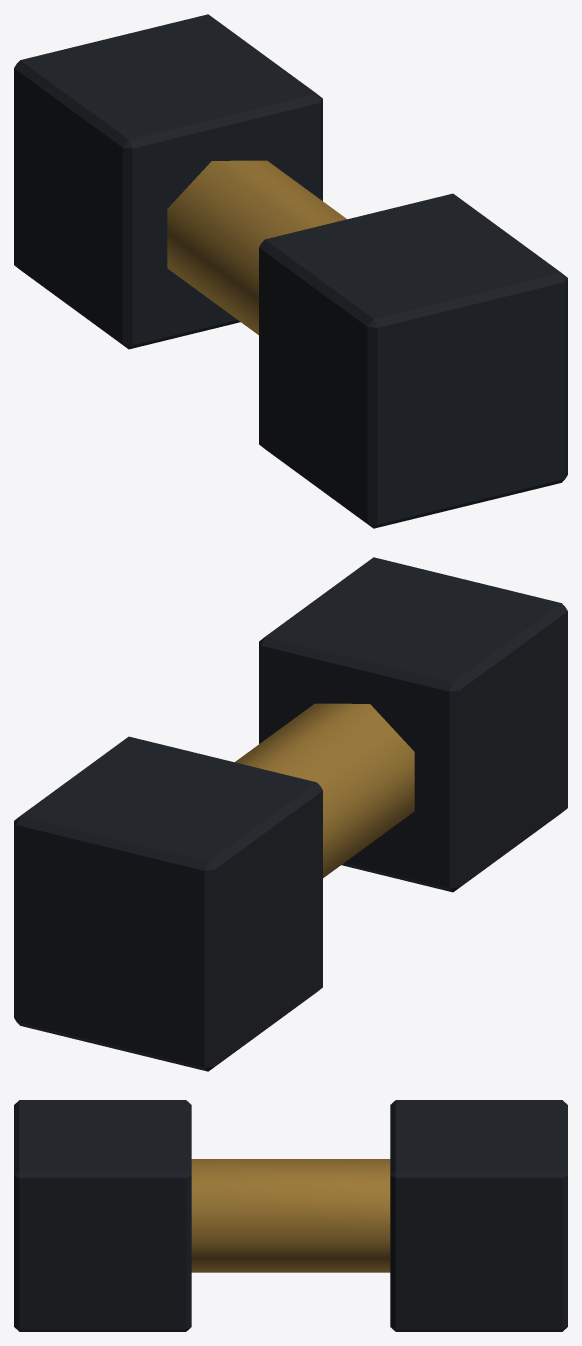
File: R4C_STRUT_STANDARD_LOD1.glb
3 views of the same model, one above another, from view 1: azimuth 30°, elevation 25°; view 2: azimuth 150°, elevation 25°; view 3: azimuth 270°, elevation 25° (orthographic). The views are drawn at different scales.
Parts seen in each view (by area): view 1: R4C_STRUT_STANDARD_LOD1; view 2: R4C_STRUT_STANDARD_LOD1; view 3: R4C_STRUT_STANDARD_LOD1.
Part boxes in pixels (bbox=[...]): R4C_STRUT_STANDARD_LOD1: bbox=[14, 14, 567, 528]; R4C_STRUT_STANDARD_LOD1: bbox=[14, 557, 567, 1071]; R4C_STRUT_STANDARD_LOD1: bbox=[14, 1100, 567, 1331].
Bounding box in the file's own units: 0.52 × 0.52 × 1.62.
